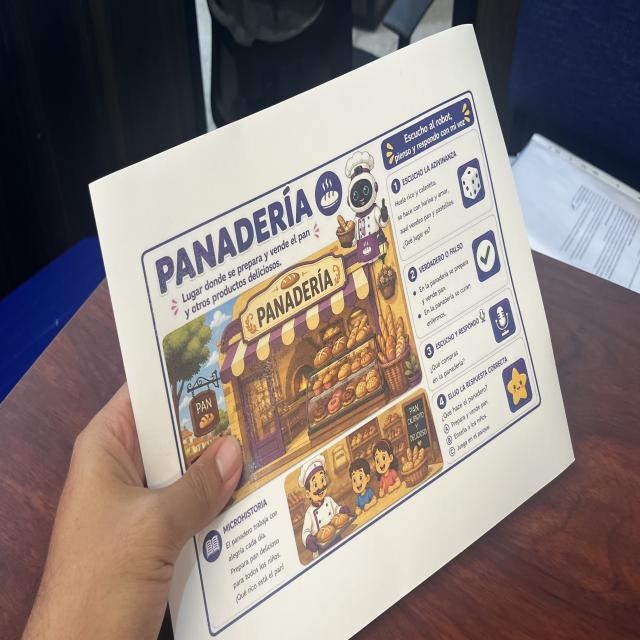panaderia: (138, 84, 545, 640)
